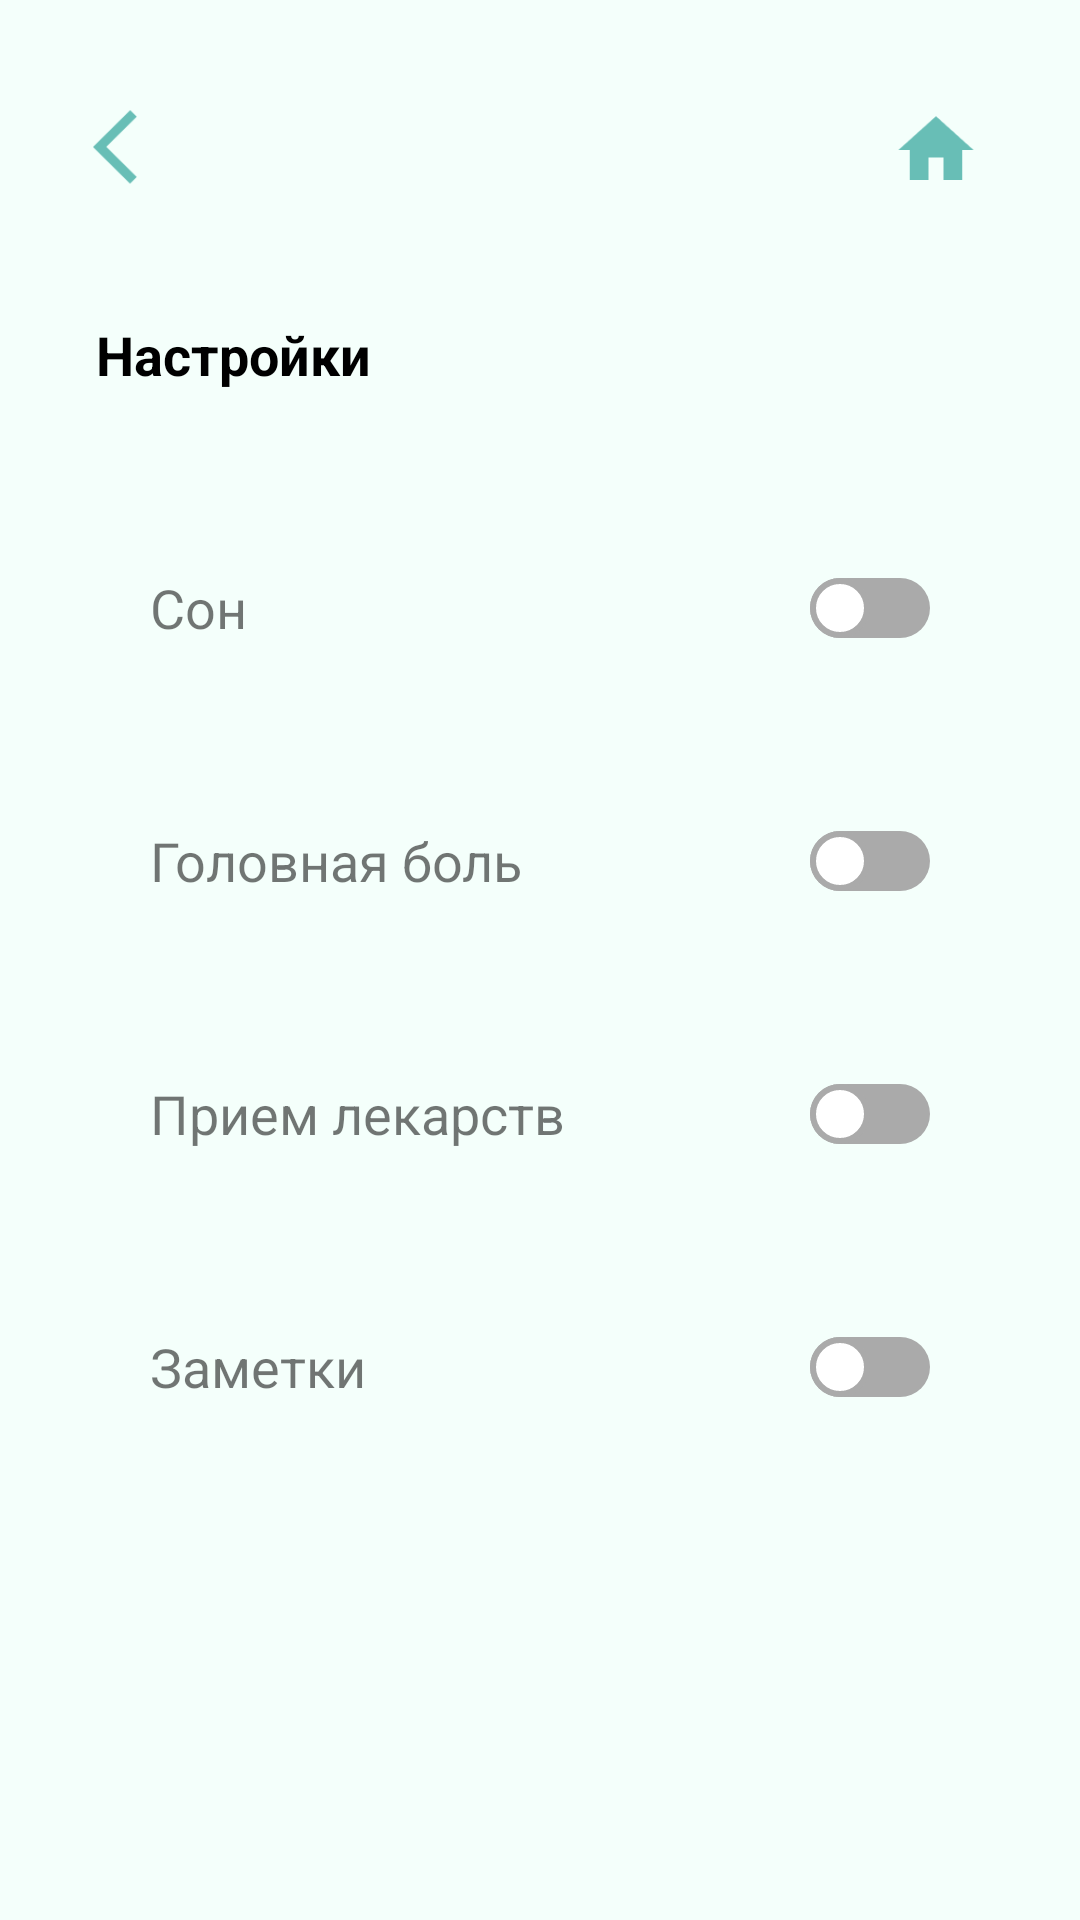

Point at icon controls on the screen. Image size 1080w x 1920h, points as [x,y].
back arrow: [115,147]
home: [936,148]
